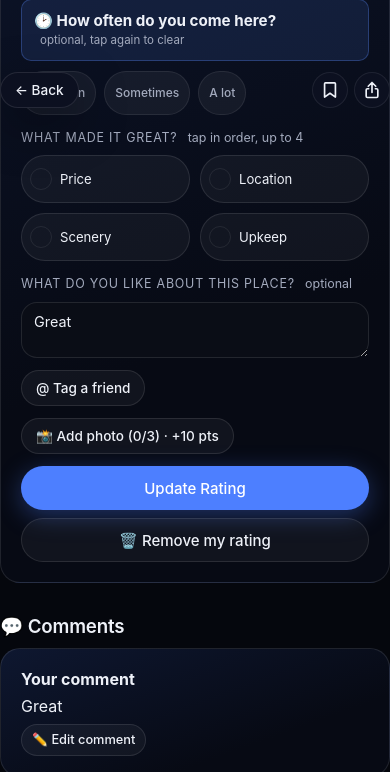
Test: landmark page rating section › re-enables saving after a save when a new photo is added
(page scrolled)
Click the button "Update Rating": click(195, 488) [21,466,369,510]
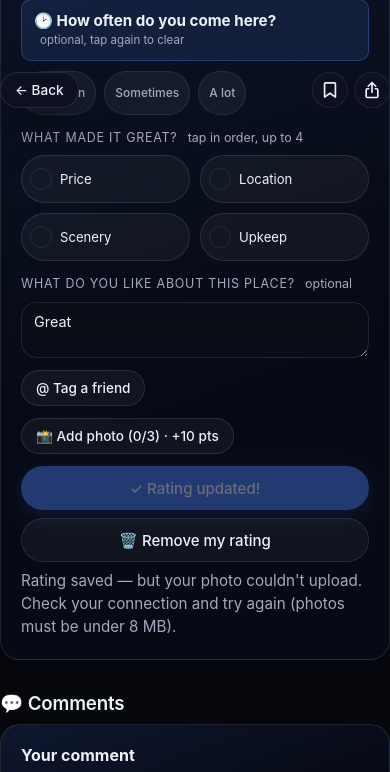
Result: the button "✓ Rating updated!" is disabled at [21,466,369,510]
Click the button "📸 Add photo (0/3) · +10 pts": click(127, 436) [21,418,234,454]
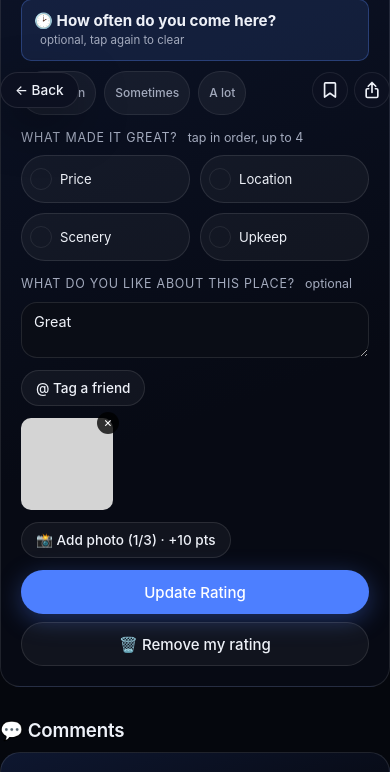
Result: the button "Update Rating" is enabled at [21,570,369,614]
